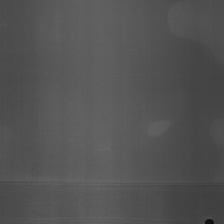punching_hole: (1, 173, 223, 193), (203, 217, 216, 223)
